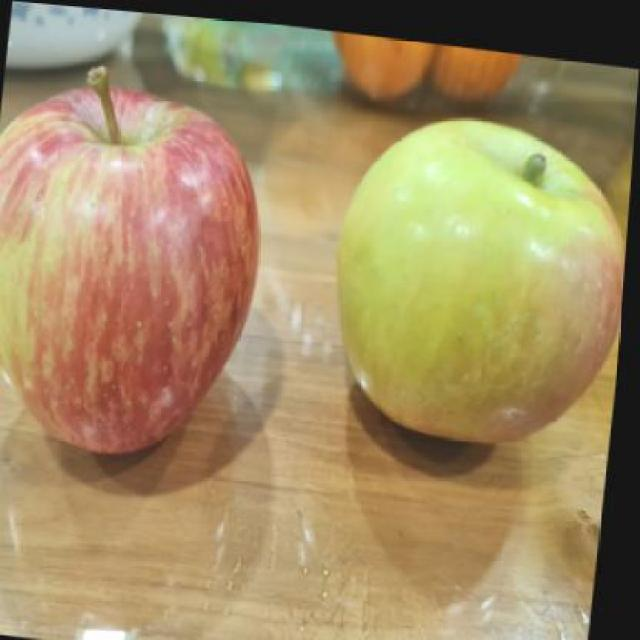Fresh Apple: (330, 113, 640, 463), (2, 72, 263, 453)
